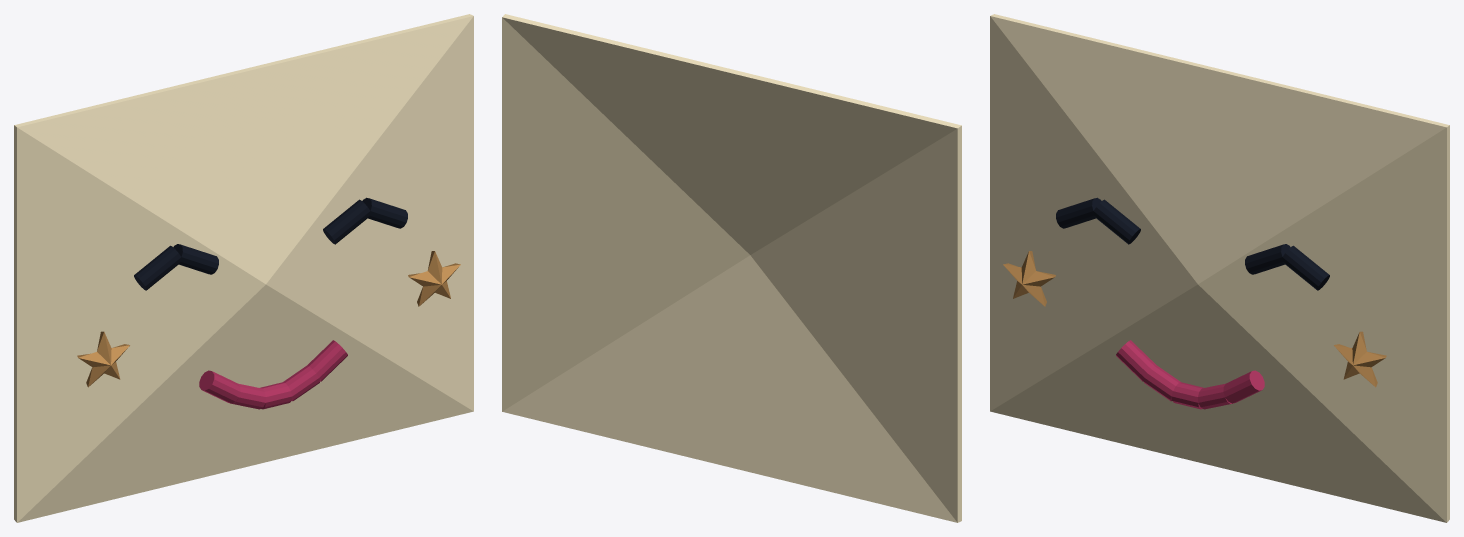
Rendered from Face_emote_clap.fbx.
3 renders of one model, left to right at view 1: azimuth 30°, elevation 25°; view 2: azimuth 150°, elevation 25°; view 3: azimuth 330°, elevation 25°, orthographic.
Visible parts, largest first — view 1: Face_emote_clap.Mesh; view 2: Face_emote_clap.Mesh; view 3: Face_emote_clap.Mesh.
Part boxes in pixels (left/top/right/bottom): Face_emote_clap.Mesh: left=14, top=14, right=473, bottom=522; Face_emote_clap.Mesh: left=502, top=14, right=961, bottom=522; Face_emote_clap.Mesh: left=990, top=14, right=1449, bottom=522.
Bounding box in the file's own units: 58 × 48 × 8.19.
